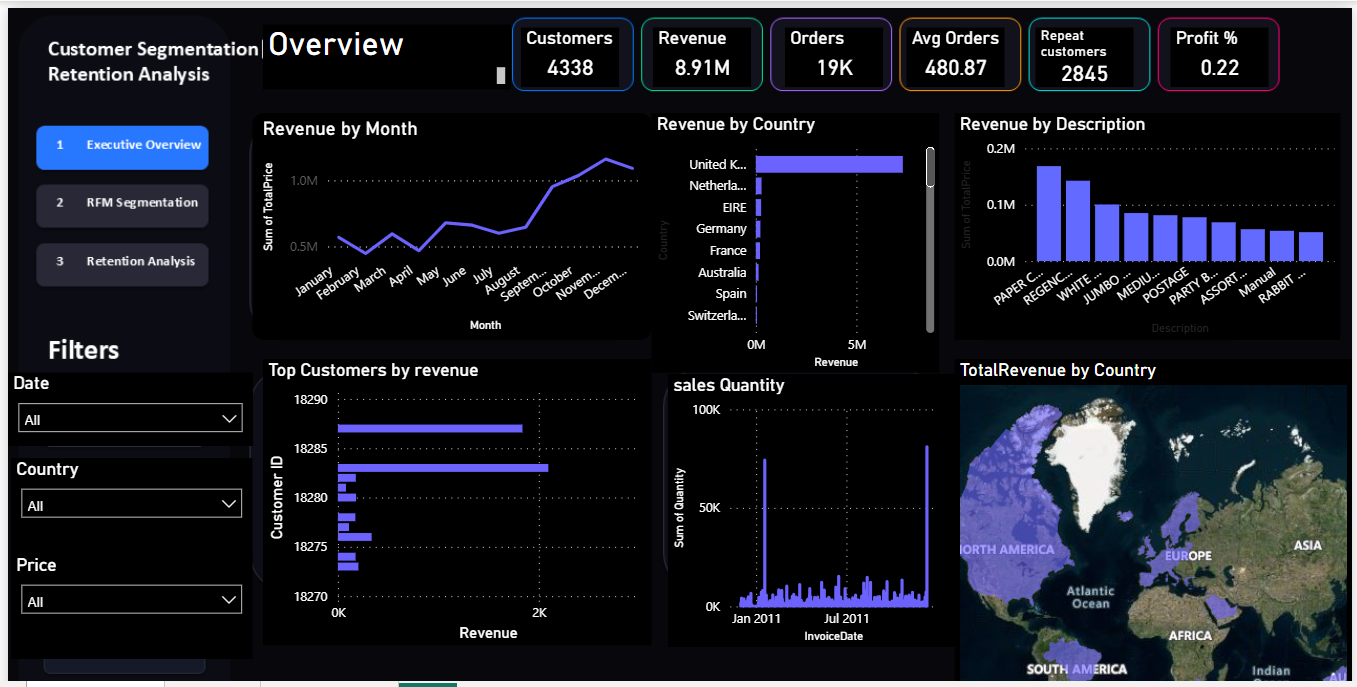

What the dashboard file says about the page in this screenshot:
{"tool":"powerbi","page":{"name":"Overview","canvas":[1280,720],"ordinal":0},"visuals":[{"type":"card","title":"Revenue","fields":{"Values":["Sum(Year 2010-2011.TotalPrice)"]},"box":[613.6,18.2,93.6,56.4],"z":0},{"type":"card","title":"Orders","fields":{"Values":["Year 2010-2011.TotalOrders"]},"box":[740,18.3,93.3,56.7],"z":1000},{"type":"card","title":"Avg Orders","fields":{"Values":["Year 2010-2011.Avg Orders"]},"box":[855,18.3,93.3,56.7],"z":2000},{"type":"card","title":"Repeat customers","fields":{"Values":["Year 2010-2011.Repeat Customers"]},"box":[978.3,18.3,93.3,56.7],"z":3000},{"type":"card","title":"Profit %","fields":{"Values":["Year 2010-2011.Profit Margin"]},"box":[1106.7,18.3,93.3,56.7],"z":4000},{"type":"card","title":"Customers","fields":{"Values":["Year 2010-2011.Total Customers"]},"box":[488.3,18.3,93.3,56.7],"z":5000},{"type":"lineChart","title":"Revenue  by Month","fields":{"Category":["Year 2010-2011.InvoiceDate.Variation.Date Hierarchy.Month"],"Y":["Sum(Year 2010-2011.TotalPrice)"]},"box":[232.9,100,380,215.7],"z":6000},{"type":"filledMap","fields":{"Category":["Year 2010-2011.Country"]},"box":[901.4,334.3,378.6,371.4],"z":7000},{"type":"columnChart","title":"Revenue by Description","fields":{"Category":["Year 2010-2011.Description"],"Y":["Sum(Year 2010-2011.TotalPrice)"]},"box":[901.4,100,367.1,215.7],"z":8000},{"type":"clusteredBarChart","fields":{"Category":["Year 2010-2011.Country"],"Y":["Year 2010-2011.Revenue"]},"box":[612.9,100,274.3,247.1],"z":9000},{"type":"clusteredBarChart","title":"Top Customers by revenue","fields":{"Category":["Year 2010-2011.Customer ID"],"Y":["Year 2010-2011.Revenue"]},"box":[242.9,334.3,370,272.9],"z":10000},{"type":"slicer","title":"Date","fields":{"Values":["Year 2010-2011.InvoiceDate"]},"box":[0,346.7,233.3,70],"z":11000},{"type":"slicer","title":"Country","fields":{"Values":["Year 2010-2011.Country"]},"box":[3.3,428.3,230,98.3],"z":12000},{"type":"slicer","title":"Price","fields":{"Values":["Year 2010-2011.Price"]},"box":[3.3,520,230,100],"z":13000},{"type":"lineChart","title":"sales Quantity","fields":{"Category":["Year 2010-2011.InvoiceDate"],"Y":["Sum(Year 2010-2011.Quantity)"]},"box":[628.3,348.3,273.3,260],"z":14000},{"type":"textbox","title":"Overview","box":[242.9,15.7,235.7,61.4],"z":15000}]}

Visuals, with their boxes on the page's 1280x720 design canvas (x1, y1, x2, y2). These are canvas units, not pixel positions in the 1357x687 screenshot, which may show the page scaled, cropped or inside an application window:
"Revenue" card: [left=614, top=18, right=707, bottom=75]
"Orders" card: [left=740, top=18, right=833, bottom=75]
"Avg Orders" card: [left=855, top=18, right=948, bottom=75]
"Repeat customers" card: [left=978, top=18, right=1072, bottom=75]
"Profit %" card: [left=1107, top=18, right=1200, bottom=75]
"Customers" card: [left=488, top=18, right=582, bottom=75]
"Revenue  by Month" lineChart: [left=233, top=100, right=613, bottom=316]
filledMap - Year 2010-2011.Country: [left=901, top=334, right=1280, bottom=706]
"Revenue by Description" columnChart: [left=901, top=100, right=1268, bottom=316]
clusteredBarChart - Year 2010-2011.Country x Year 2010-2011.Revenue: [left=613, top=100, right=887, bottom=347]
"Top Customers by revenue" clusteredBarChart: [left=243, top=334, right=613, bottom=607]
"Date" slicer: [left=0, top=347, right=233, bottom=417]
"Country" slicer: [left=3, top=428, right=233, bottom=527]
"Price" slicer: [left=3, top=520, right=233, bottom=620]
"sales Quantity" lineChart: [left=628, top=348, right=902, bottom=608]
"Overview" textbox: [left=243, top=16, right=479, bottom=77]
